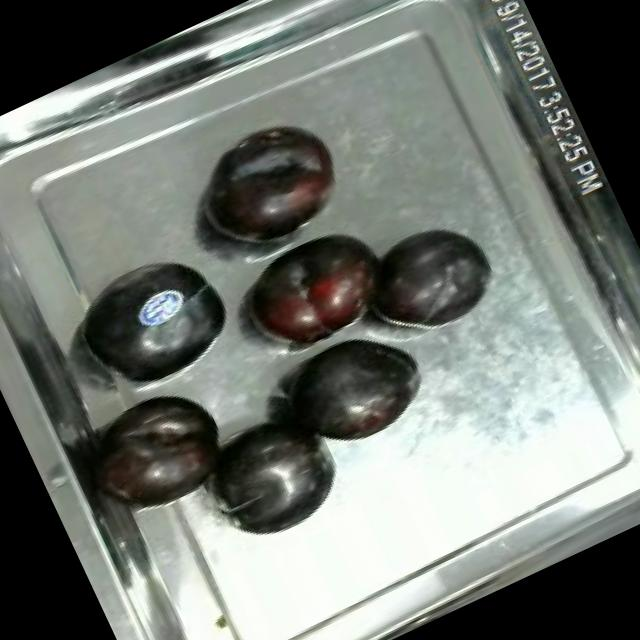Fruit: (62, 232, 254, 409), (222, 209, 410, 373), (183, 106, 362, 267), (189, 393, 361, 558), (270, 313, 441, 468), (344, 206, 510, 354), (82, 386, 246, 530)
